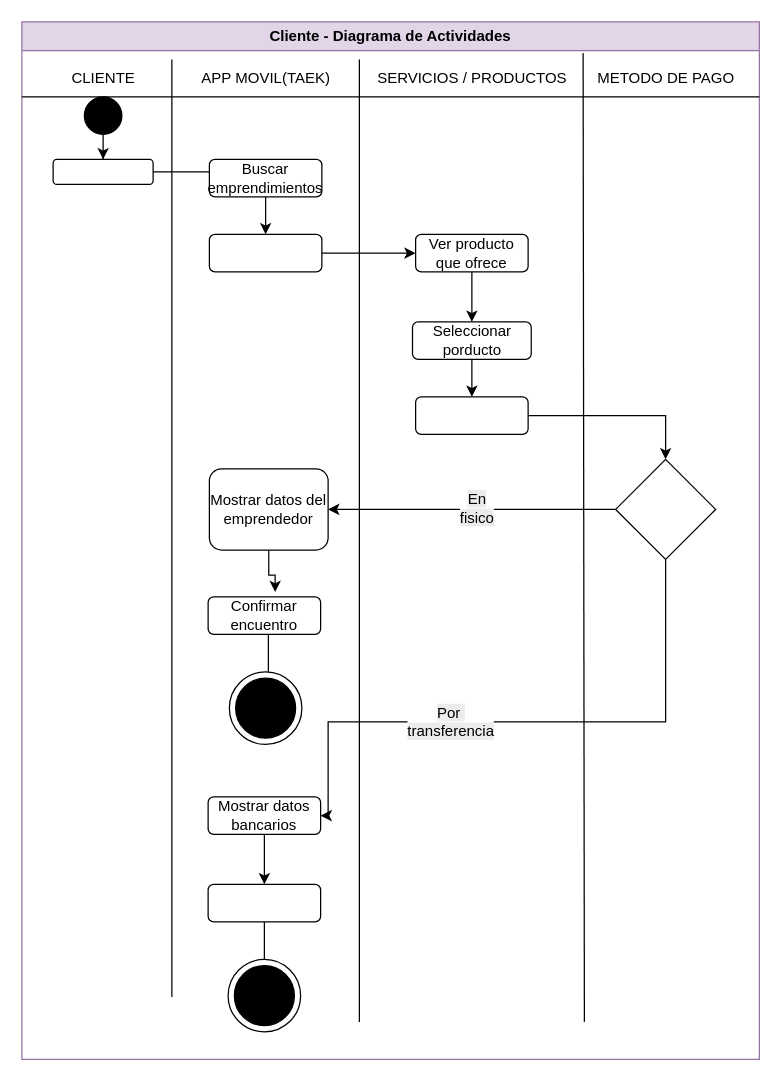
Some shapes in this 783 by 1081 pixel diagram are drawn without their labels. The shapes that lost their labels are listed below. From the top down, each one's centre as x and y in pixels, then its label:
point (102, 171): Iniciar Secion
point (265, 252): Seleccionar emprendimiento
point (471, 415): Elegir método de pago
point (264, 902): Validar comprobante
